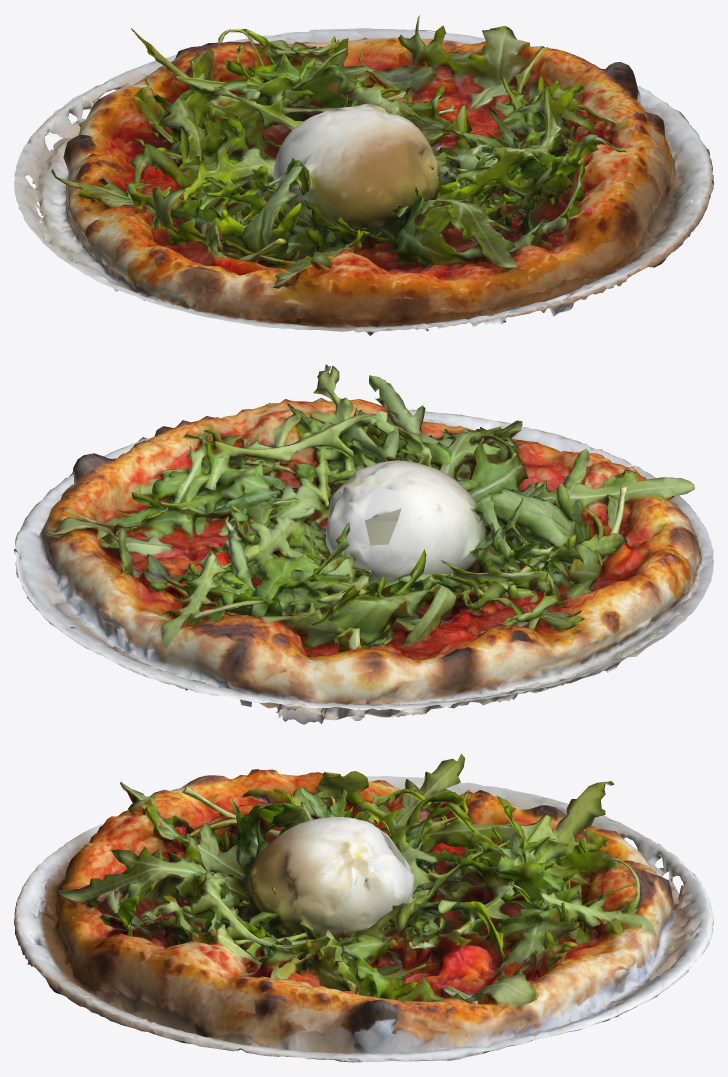
Rendered from pizza.glb.
The picture shows the model from 3 angles, top to bottom: view 1: azimuth 30°, elevation 25°; view 2: azimuth 150°, elevation 25°; view 3: azimuth 270°, elevation 25°; orthographic projection.
Parts seen in each view (by area): view 1: pizzclean; view 2: pizzclean; view 3: pizzclean.
Part boxes in pixels (x1=…): pizzclean: x1=14, y1=15, x2=713, y2=335; pizzclean: x1=14, y1=364, x2=713, y2=724; pizzclean: x1=14, y1=754, x2=713, y2=1062.
Size of the model in its own units: 0.3162 by 0.0625 by 0.319.
Materials: 1 (1 with a texture image).
